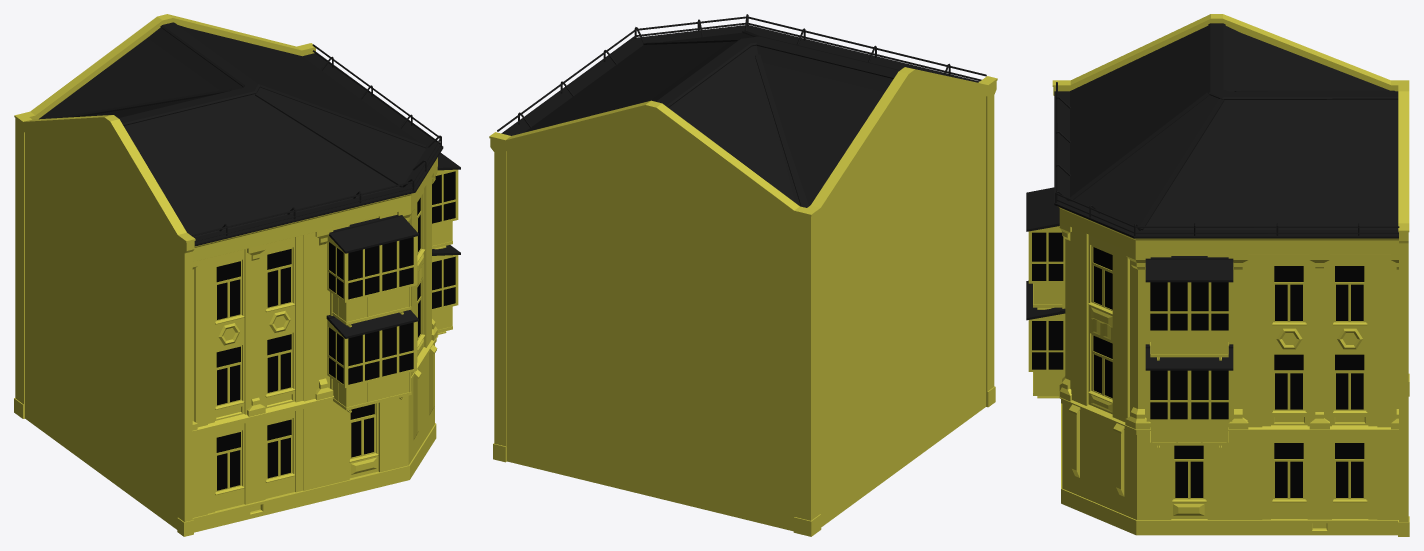
Rendered from SM_fifth_house_1.fbx.
The picture shows the model from 3 angles, left to right: view 1: azimuth 30°, elevation 25°; view 2: azimuth 150°, elevation 25°; view 3: azimuth 270°, elevation 25°; orthographic projection. The views are drawn at different scales.
Parts seen in each view (by area): view 1: Cylinder_13; view 2: Cylinder_13; view 3: Cylinder_13.
Boxes of the visible parts, x1,y1,x2,y2 form: Cylinder_13: (14,14,460,536); Cylinder_13: (489,14,997,536); Cylinder_13: (1026,14,1409,536).
Size of the model in its own units: 1176 by 1270 by 1178.
